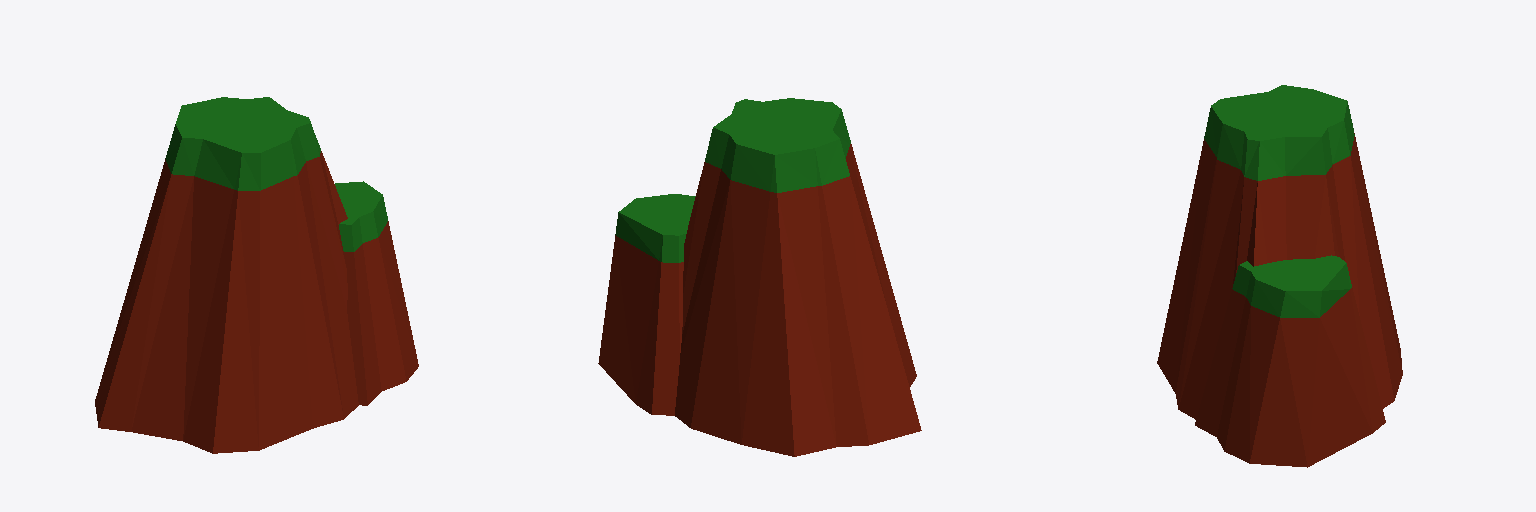
The model's file is Ground.obj.
3 views of the same model, side by side, from view 1: azimuth 30°, elevation 25°; view 2: azimuth 150°, elevation 25°; view 3: azimuth 270°, elevation 25° (orthographic).
Parts seen in each view (by area): view 1: Cylinder001; view 2: Cylinder001; view 3: Cylinder001.
Boxes of the visible parts, x1=… form: Cylinder001: x1=95, y1=97, x2=418, y2=453; Cylinder001: x1=598, y1=98, x2=921, y2=456; Cylinder001: x1=1157, y1=85, x2=1402, y2=467.
Bounding box in the file's own units: 192 × 159 × 131.